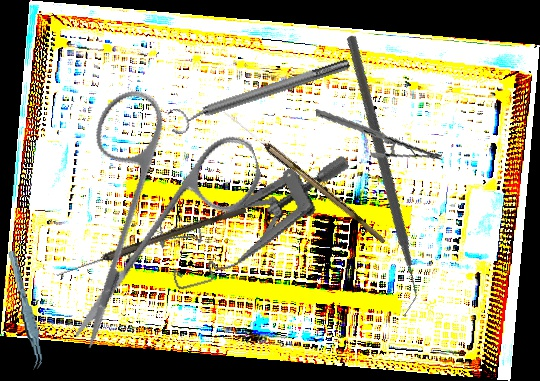Chopper: (234, 32, 522, 320)
Fixation Ring: (164, 50, 355, 138)
Iris Scissors: (9, 59, 296, 351)
Needle Holder: (315, 91, 443, 179)
Speculum: (149, 152, 370, 293)
Surgical Spoon: (219, 108, 390, 244), (55, 203, 247, 281)
Tissue Forceps: (7, 249, 45, 371)
